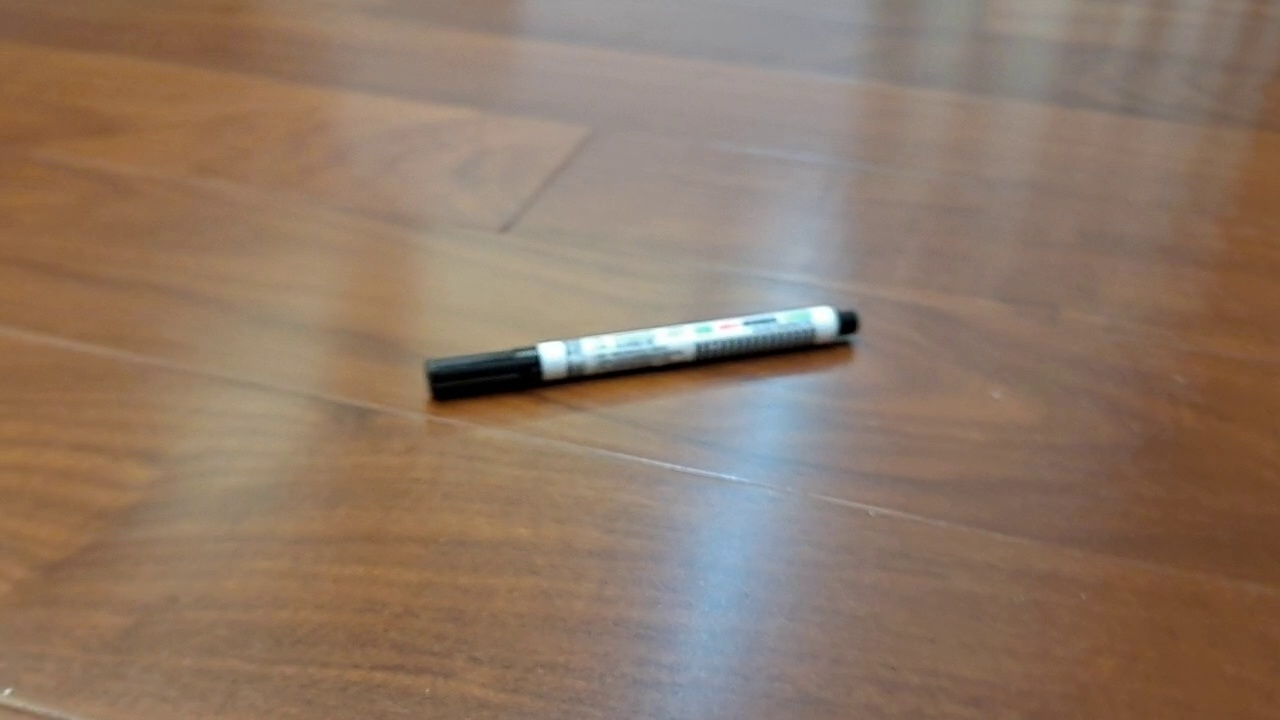pen: (425, 305, 859, 402)
